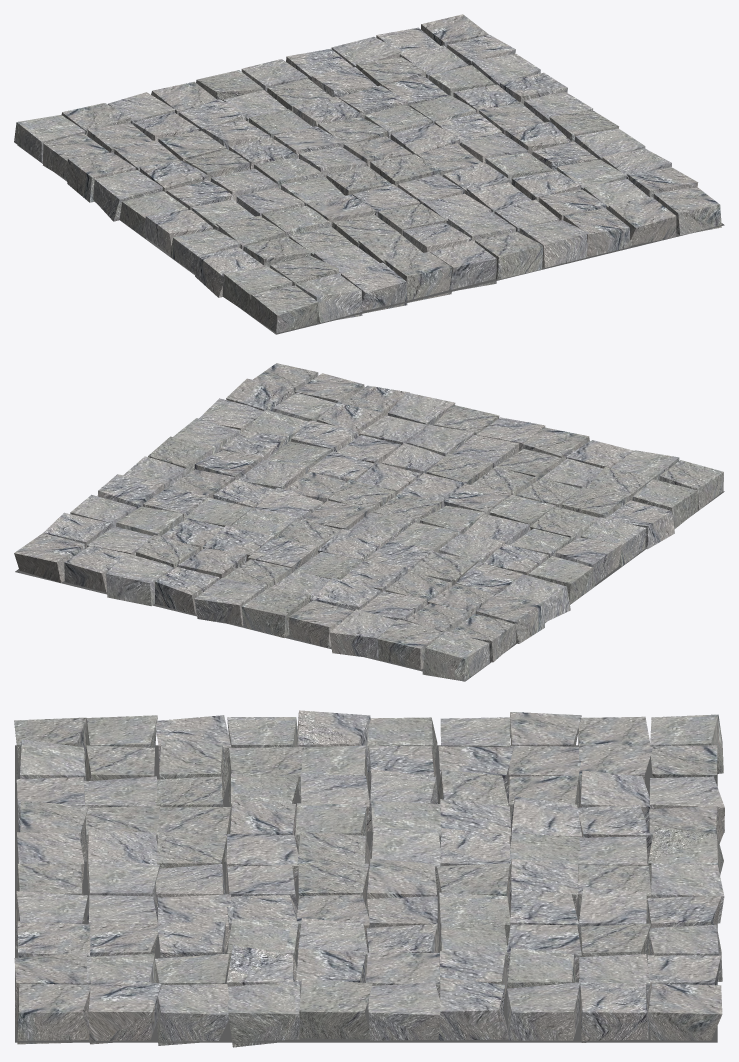
File: Stone_Tile_2x2.fbx
The picture shows the model from 3 angles, top to bottom: view 1: azimuth 30°, elevation 25°; view 2: azimuth 150°, elevation 25°; view 3: azimuth 270°, elevation 25°; orthographic projection. The views are drawn at different scales.
Parts seen in each view (by area): view 1: Stone_Tile_2x2; view 2: Stone_Tile_2x2; view 3: Stone_Tile_2x2.
Part boxes in pixels (x1=…): Stone_Tile_2x2: x1=14, y1=14, x2=724, y2=334; Stone_Tile_2x2: x1=14, y1=363, x2=724, y2=681; Stone_Tile_2x2: x1=14, y1=710, x2=724, y2=1047.
Bounding box in the file's own units: 2.02 × 0.1379 × 2.02.
2 materials, 1 textured.
